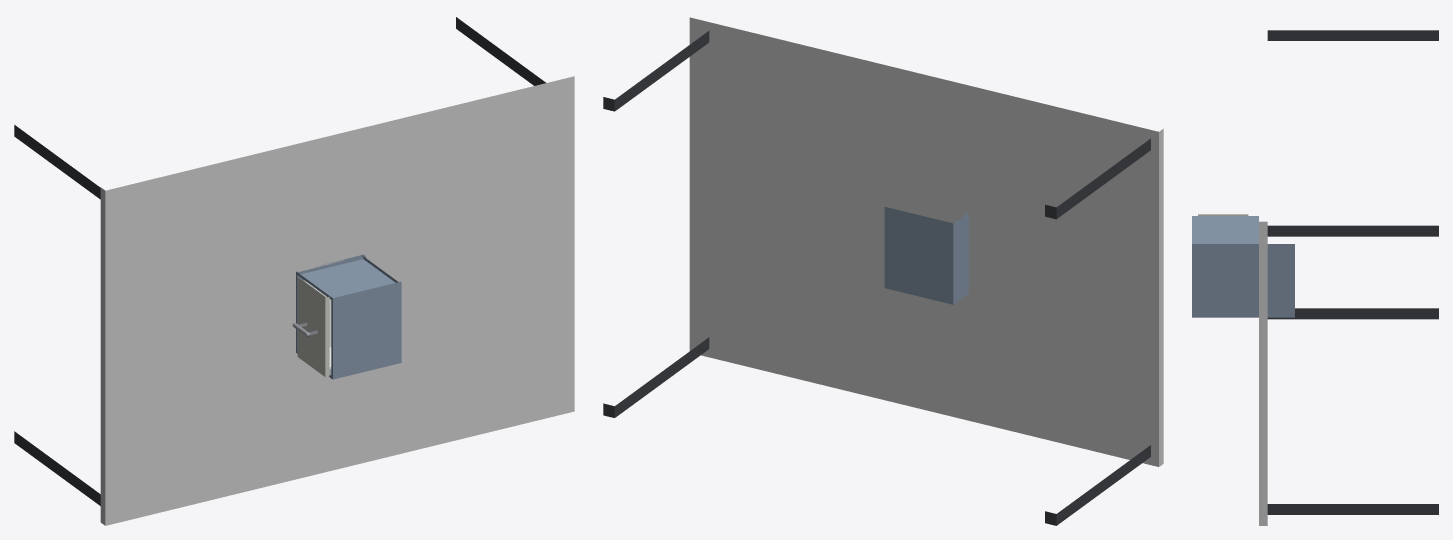
Rendered from t2_2908bceb0a.glb.
The picture shows the model from 3 angles, left to right: view 1: azimuth 30°, elevation 25°; view 2: azimuth 150°, elevation 25°; view 3: azimuth 270°, elevation 25°; orthographic projection. The views are drawn at different scales.
Parts seen in each view (by area): view 1: s0, s1, s2; view 2: s0, s1; view 3: s0, s1.
Part boxes in pixels (x1,y1,x2,y2): s0: [14, 17, 574, 525]; s1: [296, 254, 401, 379]; s2: [292, 278, 331, 377]; s0: [603, 17, 1163, 525]; s1: [884, 207, 968, 304]; s0: [1259, 30, 1438, 525]; s1: [1192, 216, 1294, 317].
Bounding box in the file's own units: 2.05 × 1.4 × 1.03.
